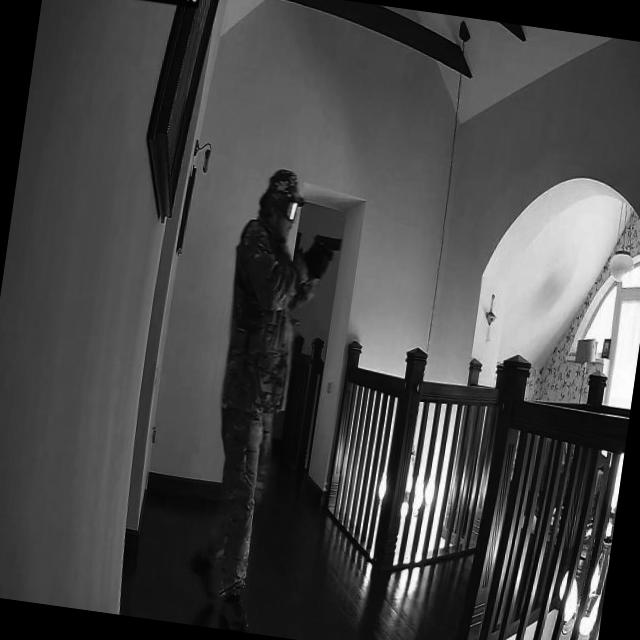gun: (309, 229, 344, 269)
person with a gun: (184, 163, 314, 630)
